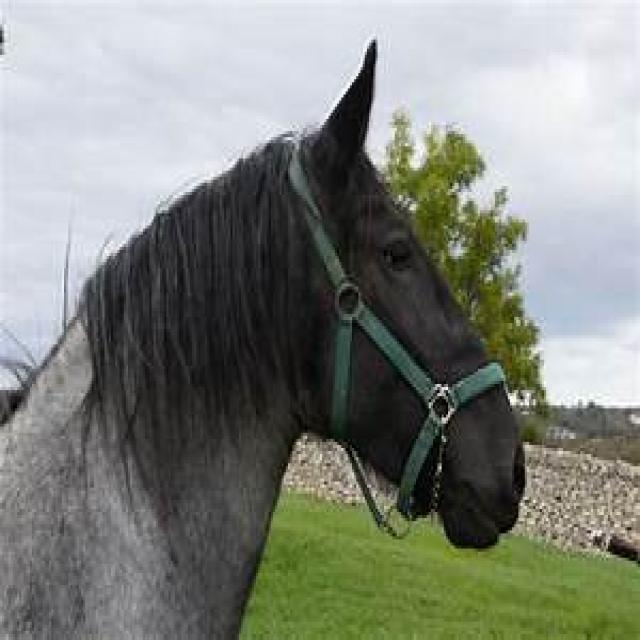horse: (0, 43, 527, 640)
